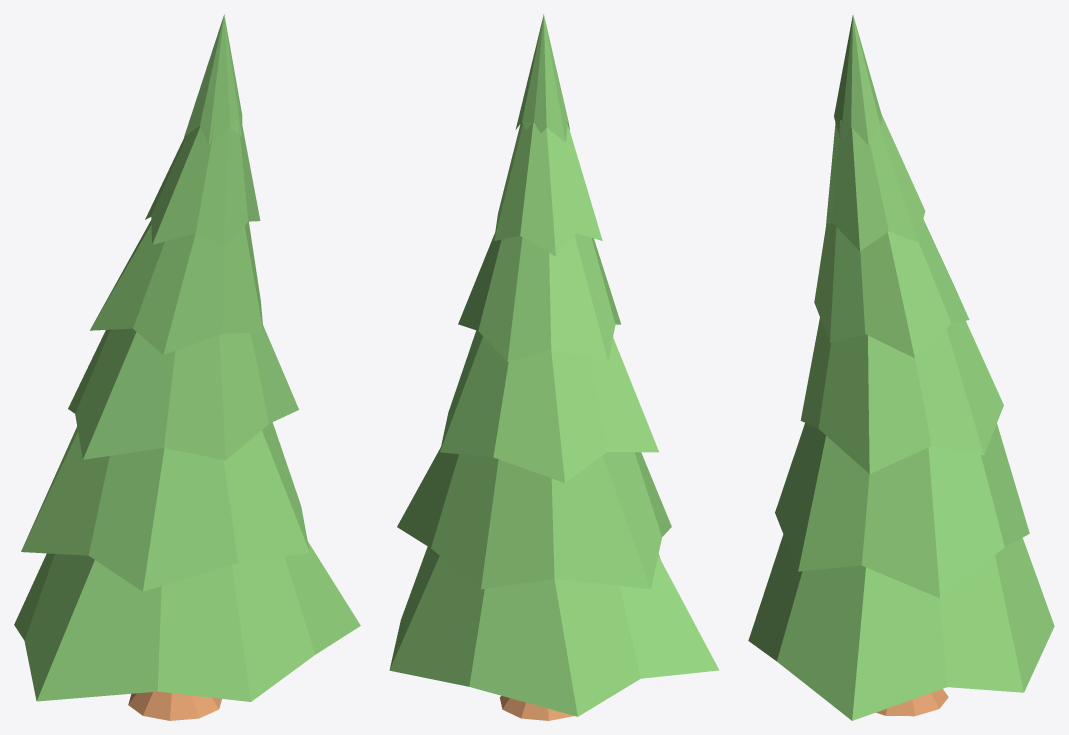
Rendered from Tanne001.fbx.
3 renders of one model, left to right at view 1: azimuth 30°, elevation 25°; view 2: azimuth 150°, elevation 25°; view 3: azimuth 270°, elevation 25°, orthographic. The views are drawn at different scales.
Visible parts, largest first — view 1: Tanne; view 2: Tanne; view 3: Tanne.
Part boxes in pixels (x1=…): Tanne: x1=14, y1=14, x2=360, y2=720; Tanne: x1=389, y1=14, x2=718, y2=720; Tanne: x1=748, y1=15, x2=1054, y2=720.
Size of the model in its own units: 773 by 1602 by 640.
